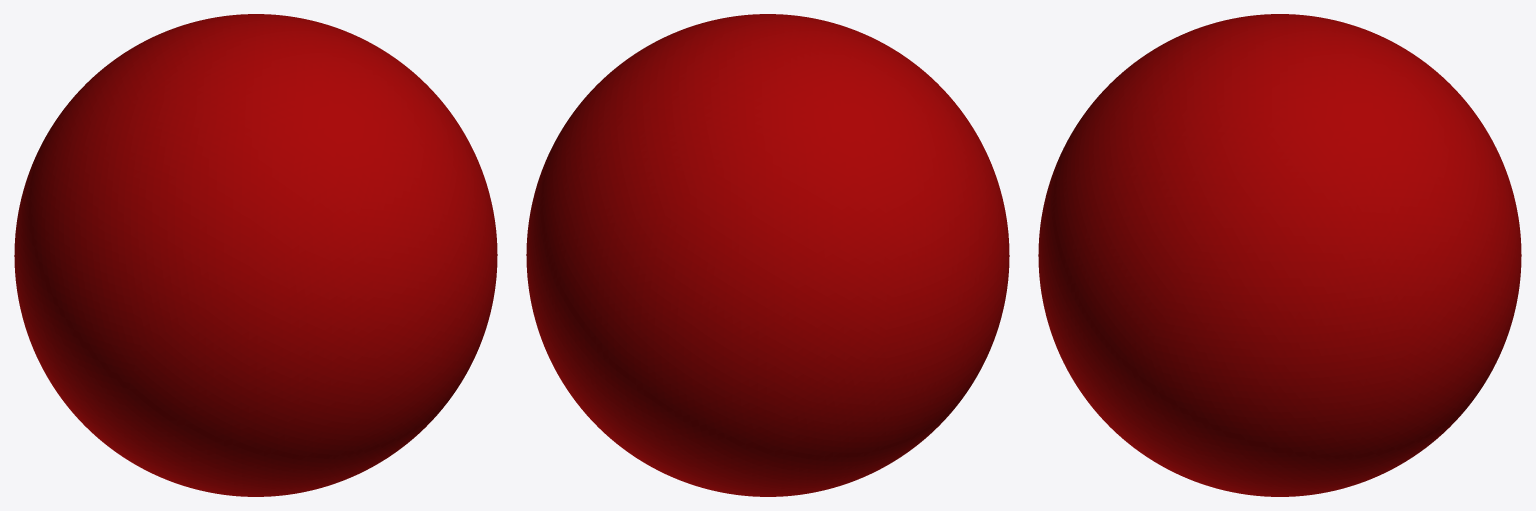
Rendered from HighResSphere.obj.
The picture shows the model from 3 angles, left to right: view 1: azimuth 30°, elevation 25°; view 2: azimuth 150°, elevation 25°; view 3: azimuth 270°, elevation 25°; orthographic projection.
Parts seen in each view (by area): view 1: HighResSphere; view 2: HighResSphere; view 3: HighResSphere.
Part boxes in pixels (x1,y1,x2,y2): HighResSphere: (14,14,497,496); HighResSphere: (526,14,1009,496); HighResSphere: (1038,14,1521,496).
Bounding box in the file's own units: 1 × 1 × 1.
